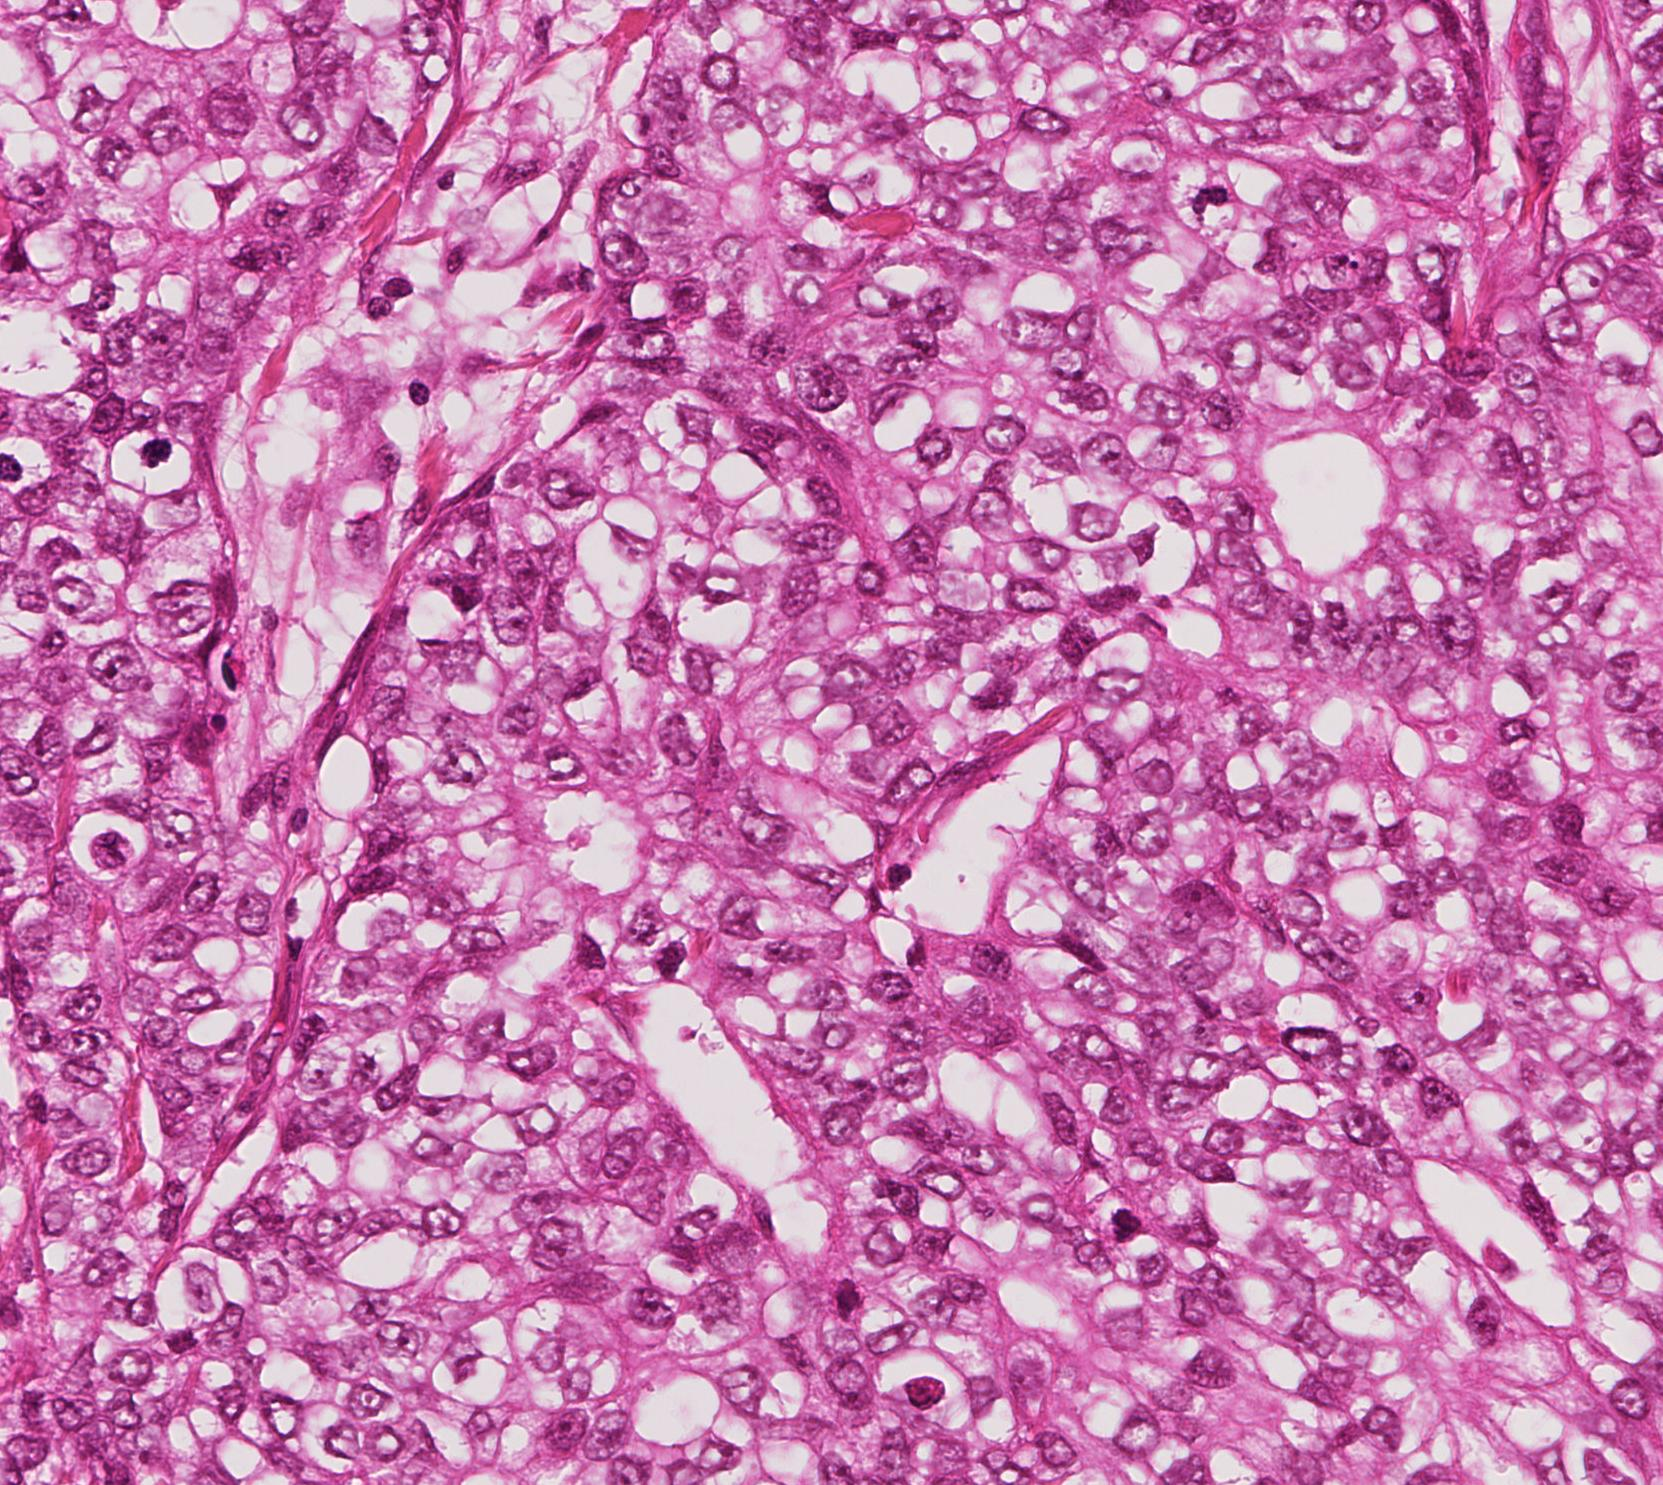mitosis: (1097, 1190, 1157, 1250)
